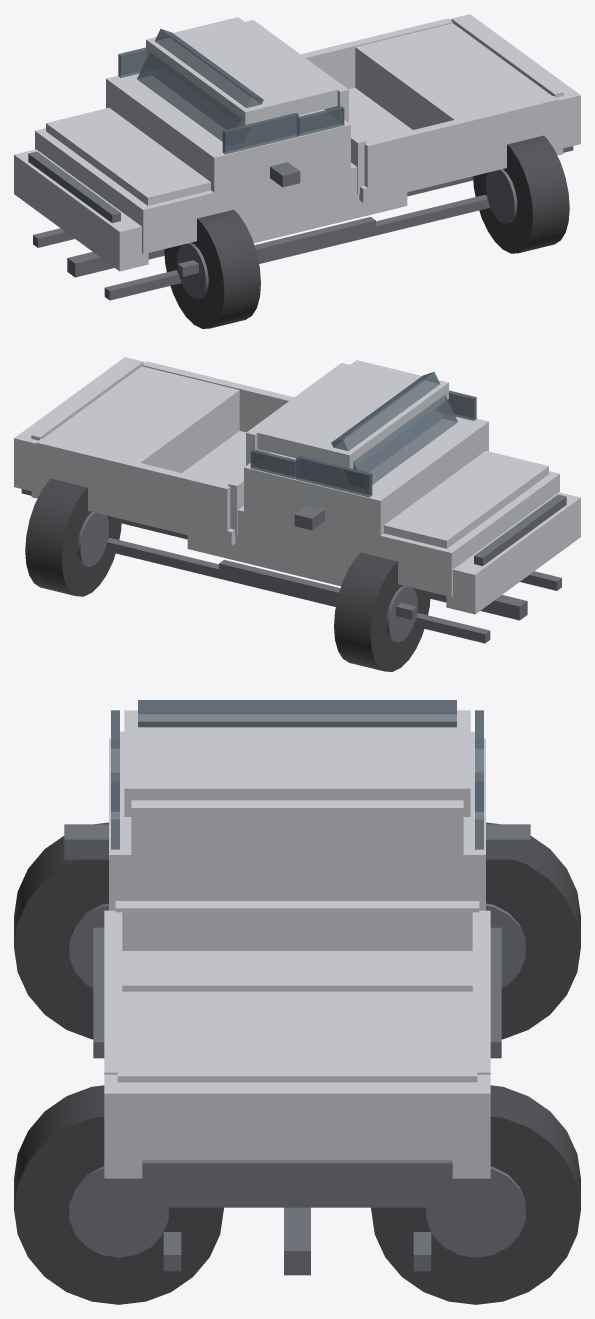
The model's file is nissan-navara.glb.
3 renders of one model, top to bottom at view 1: azimuth 30°, elevation 25°; view 2: azimuth 150°, elevation 25°; view 3: azimuth 270°, elevation 25°, orthographic. The views are drawn at different scales.
Visible parts, largest first — view 1: Vehicle; view 2: Vehicle; view 3: Vehicle.
Part boxes in pixels (<box>): Vehicle: <box>14,14,580,328</box>; Vehicle: <box>14,357,580,671</box>; Vehicle: <box>14,700,580,1304</box>.
Size of the model in its own units: 4.16 by 1.81 by 2.54.
